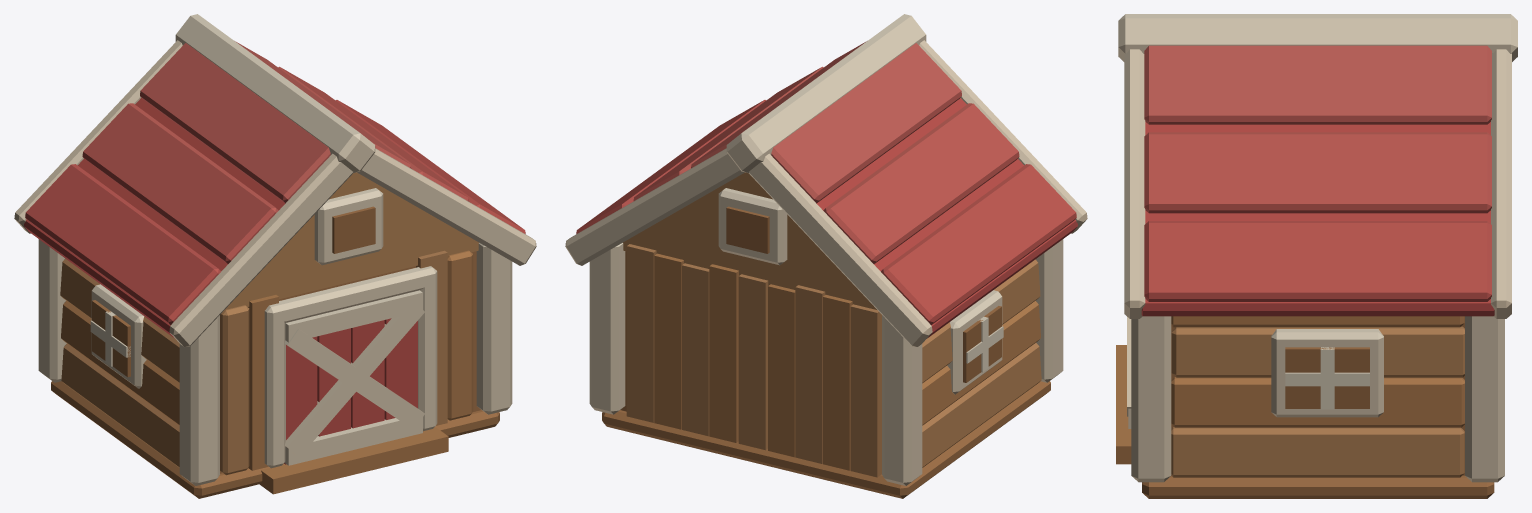
Rendered from ranch_shed.fbx.
3 views of the same model, side by side, from view 1: azimuth 30°, elevation 25°; view 2: azimuth 150°, elevation 25°; view 3: azimuth 270°, elevation 25° (orthographic). The views are drawn at different scales.
Visible parts, largest first — view 1: ranch_shed; view 2: ranch_shed; view 3: ranch_shed.
Boxes of the visible parts, box(x1,y1,x2,y2) form: ranch_shed: box(14, 14, 536, 498); ranch_shed: box(565, 14, 1087, 498); ranch_shed: box(1116, 14, 1517, 498).
Size of the model in its own units: 10.55 by 9.33 by 8.55.
